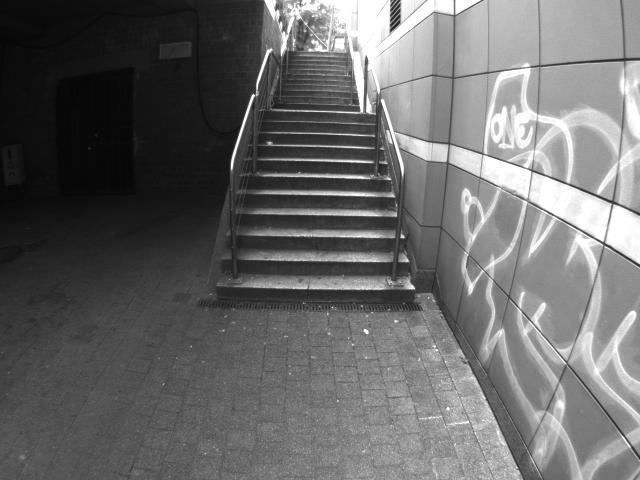Escaleras: (213, 104, 418, 309), (263, 46, 361, 110)
